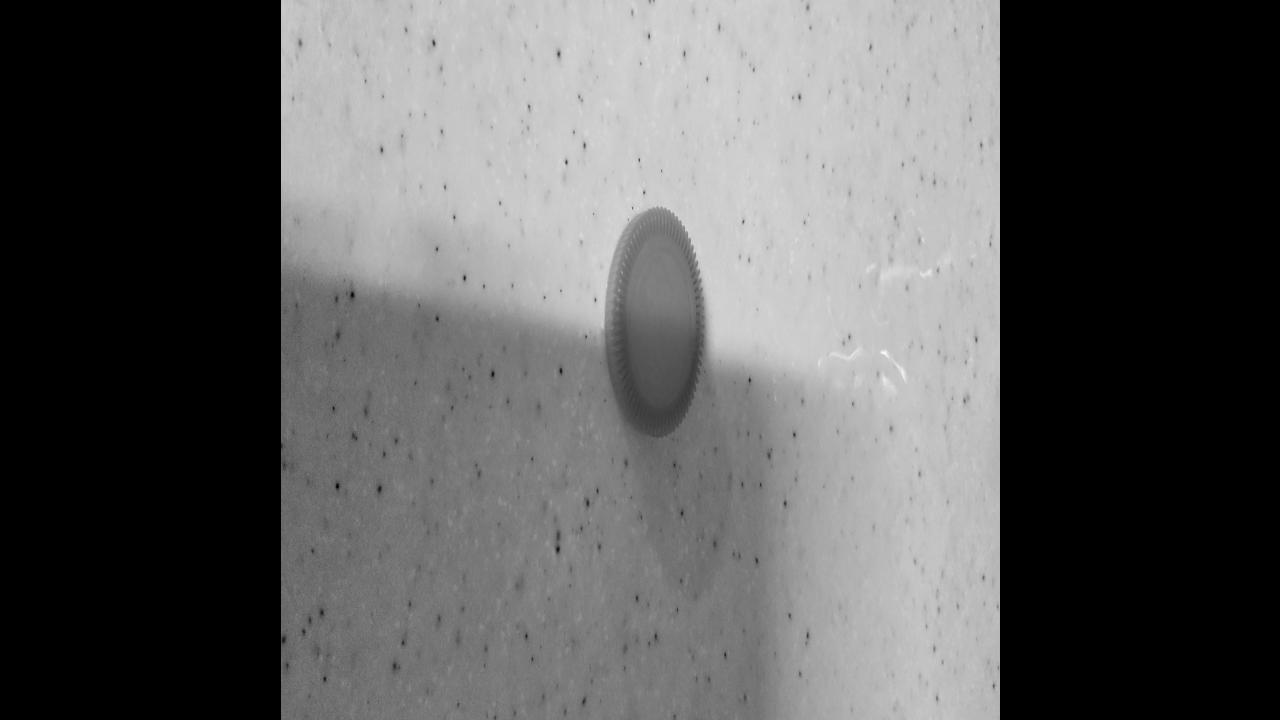bottle_cap: (603, 200, 705, 448)
